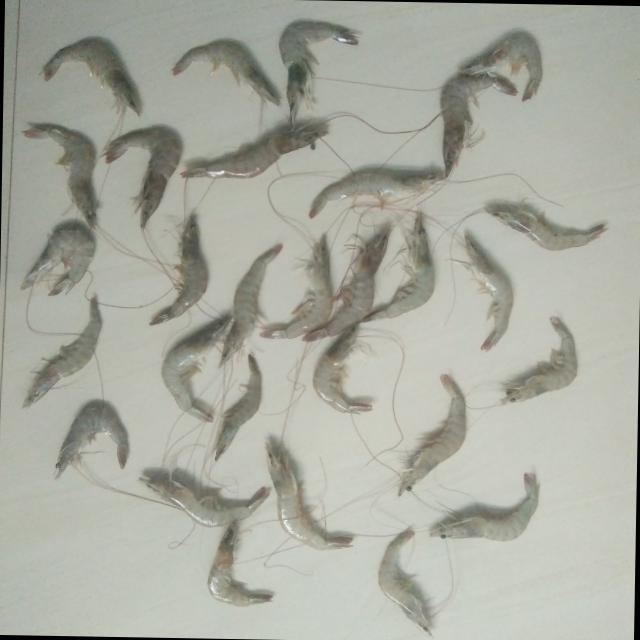shrimp: (303, 228, 391, 341), (266, 442, 353, 550), (22, 297, 101, 407), (399, 374, 467, 496), (280, 20, 359, 125), (102, 127, 182, 228), (441, 72, 518, 176), (363, 213, 436, 322), (220, 244, 283, 366), (260, 235, 334, 338), (42, 38, 141, 114), (431, 473, 540, 542), (23, 124, 96, 227), (181, 126, 328, 177), (161, 317, 231, 422), (172, 40, 281, 104), (454, 235, 514, 351), (501, 316, 579, 405), (149, 215, 208, 325), (139, 478, 270, 527), (310, 171, 446, 217), (55, 402, 129, 479), (461, 31, 544, 99), (379, 530, 432, 636), (487, 204, 608, 250), (208, 522, 272, 607), (313, 324, 373, 413), (21, 228, 95, 295), (215, 354, 261, 461)
